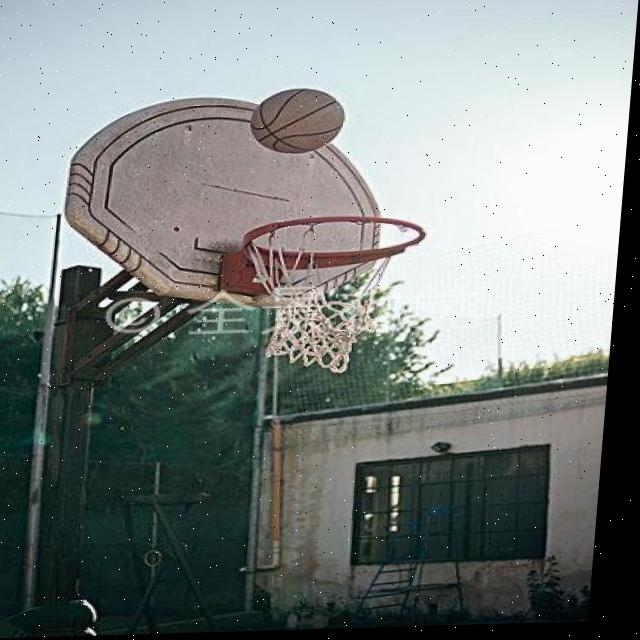Basketball: (249, 85, 346, 155)
